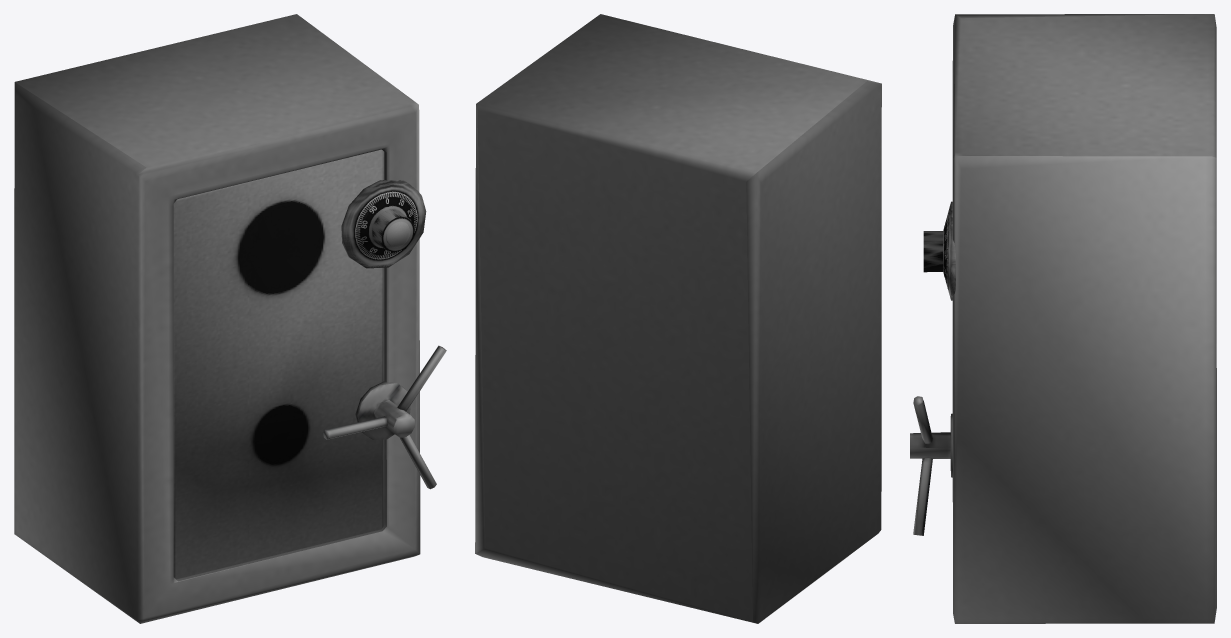
File: safe.glb
3 views of the same model, side by side, from view 1: azimuth 30°, elevation 25°; view 2: azimuth 150°, elevation 25°; view 3: azimuth 270°, elevation 25° (orthographic). The views are drawn at different scales.
Visible parts, largest first — view 1: Safe, Door, Knob, Handle; view 2: Safe; view 3: Safe, Handle, Knob.
Boxes of the visible parts, box(x1,y1,x2,y2) form: Safe: box(14, 14, 420, 623); Door: box(173, 149, 384, 579); Knob: box(341, 180, 426, 268); Handle: box(323, 345, 446, 489); Safe: box(475, 14, 881, 623); Safe: box(952, 14, 1216, 623); Handle: box(910, 396, 952, 535); Knob: box(923, 201, 955, 300).
Size of the model in its own units: 0.1038 by 0.154 by 0.0909.
Materials: 3 (3 with a texture image).
